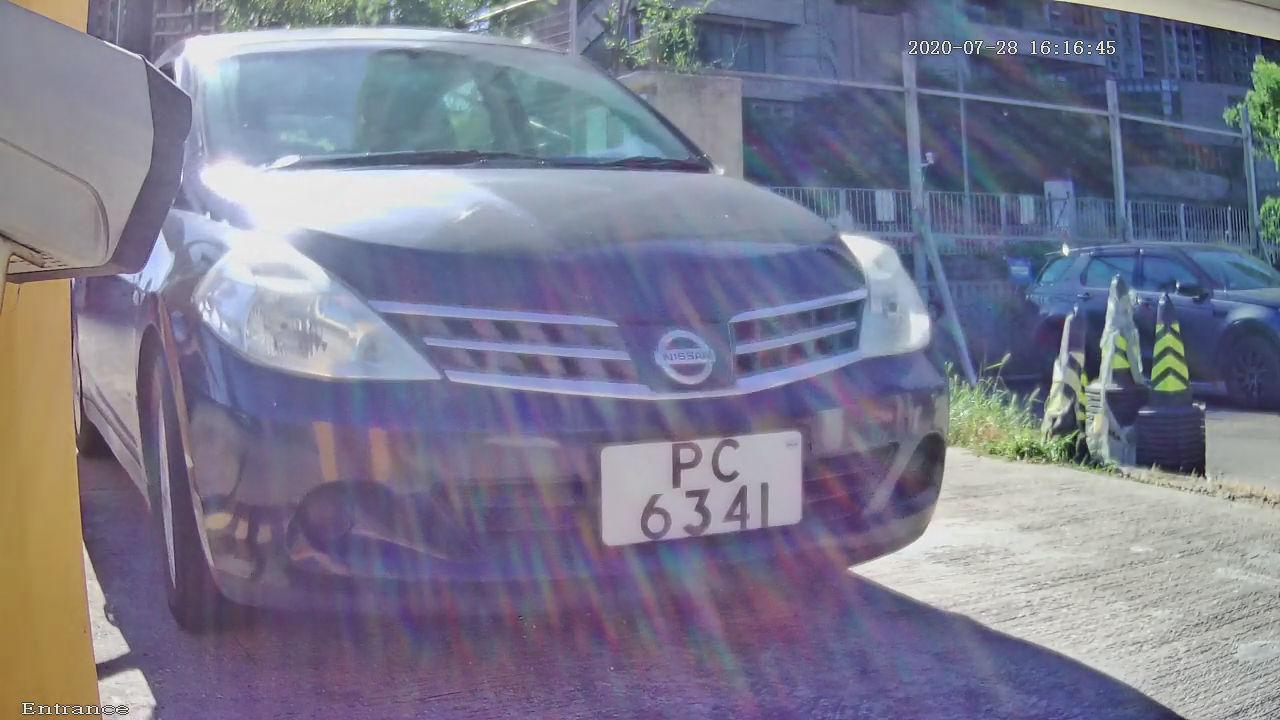privatecar: (52, 10, 1069, 708)
